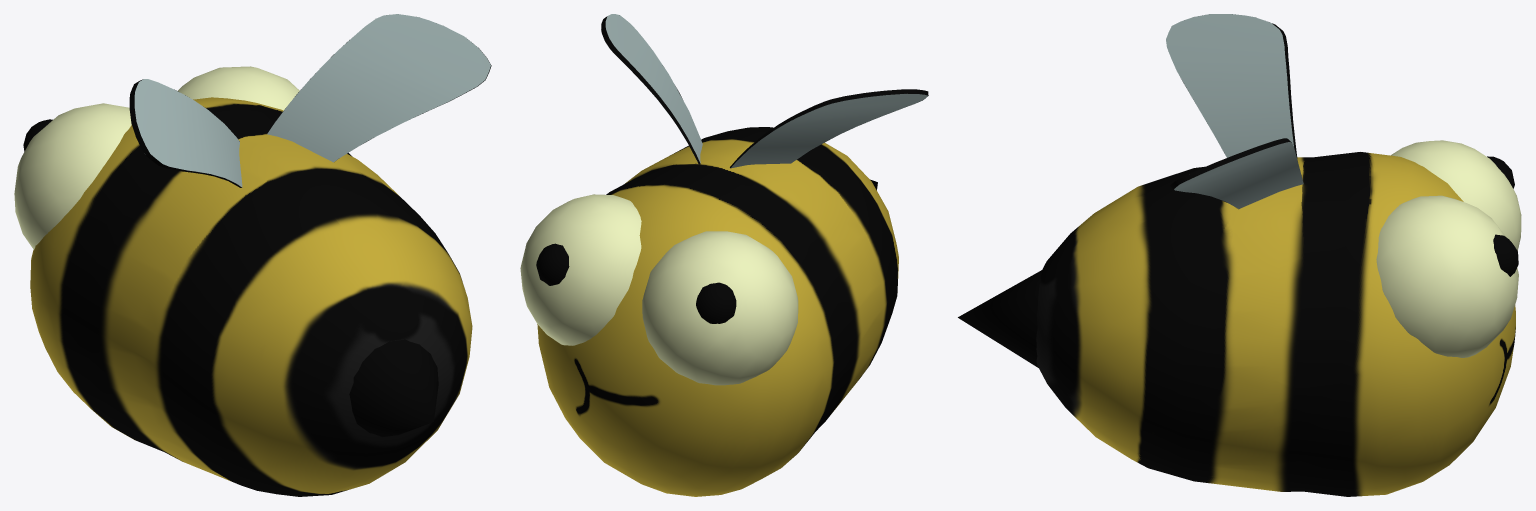
File: plushdeathbee.fbx
3 renders of one model, left to right at view 1: azimuth 30°, elevation 25°; view 2: azimuth 150°, elevation 25°; view 3: azimuth 270°, elevation 25°, orthographic. The views are drawn at different scales.
Parts seen in each view (by area): view 1: body; view 2: body; view 3: body.
Boxes of the visible parts, x1,y1,x2,y2 form: body: [14, 14, 491, 496]; body: [520, 14, 928, 496]; body: [958, 14, 1521, 496].
Size of the model in its own units: 0.2933 by 0.3469 by 0.4361.
